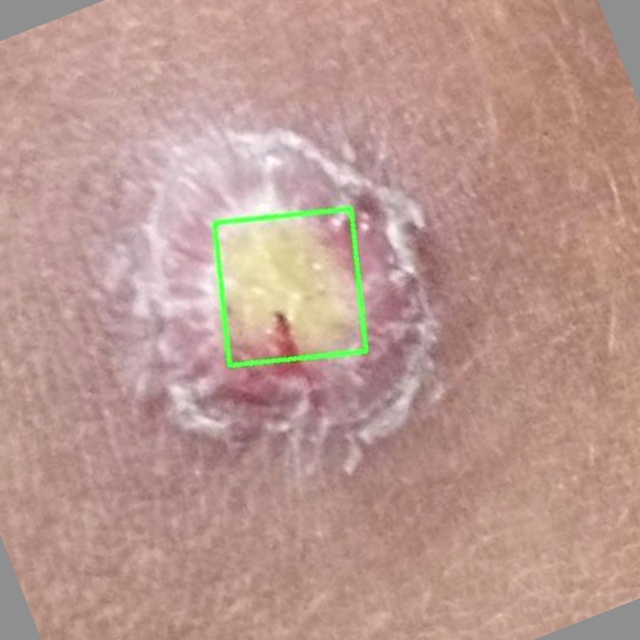Scabies: (214, 209, 365, 366)
